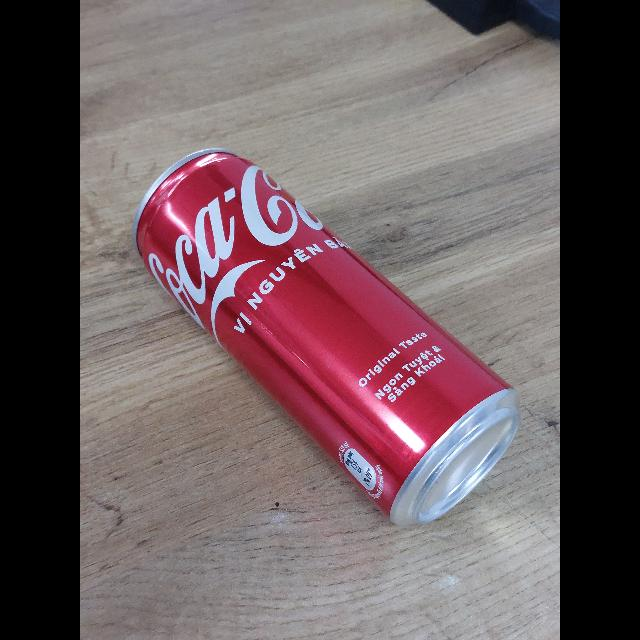coca_cola: (134, 149, 521, 529)
